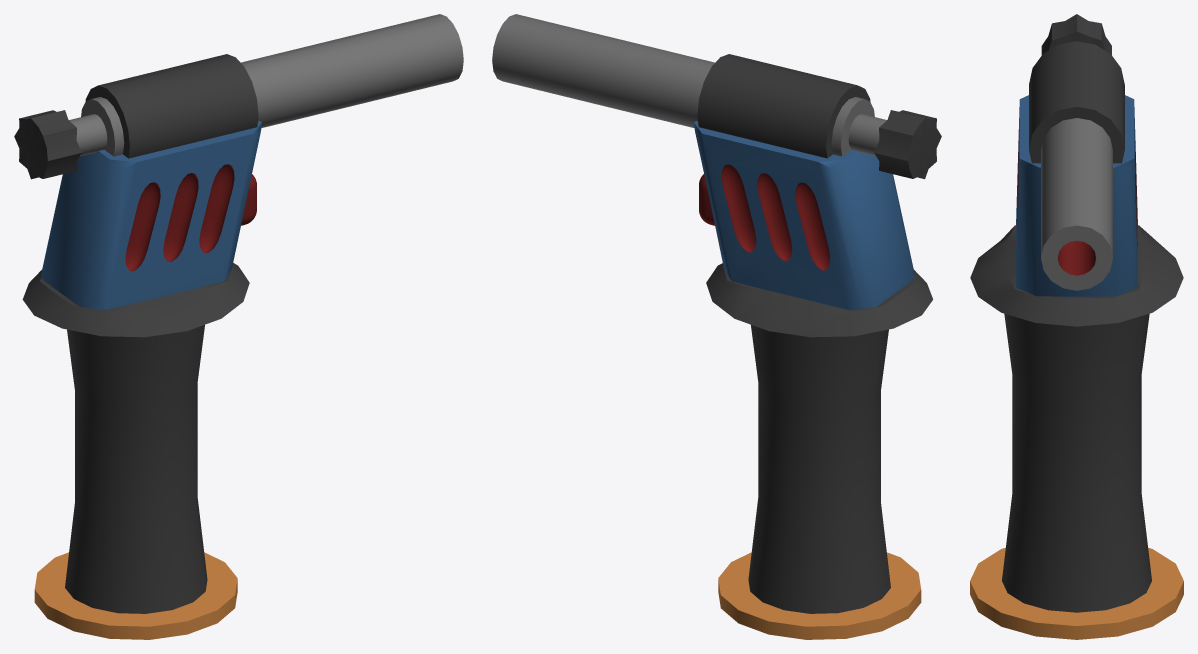
File: blow_torch.fbx
The picture shows the model from 3 angles, left to right: view 1: azimuth 30°, elevation 25°; view 2: azimuth 150°, elevation 25°; view 3: azimuth 270°, elevation 25°; orthographic projection. The views are drawn at different scales.
Parts seen in each view (by area): view 1: blow_torch_1; view 2: blow_torch_1; view 3: blow_torch_1.
Part boxes in pixels (<box>): blow_torch_1: <box>14,14,463,639</box>; blow_torch_1: <box>492,14,941,639</box>; blow_torch_1: <box>970,14,1183,639</box>.
Bounding box in the file's own units: 164 × 194 × 70.
